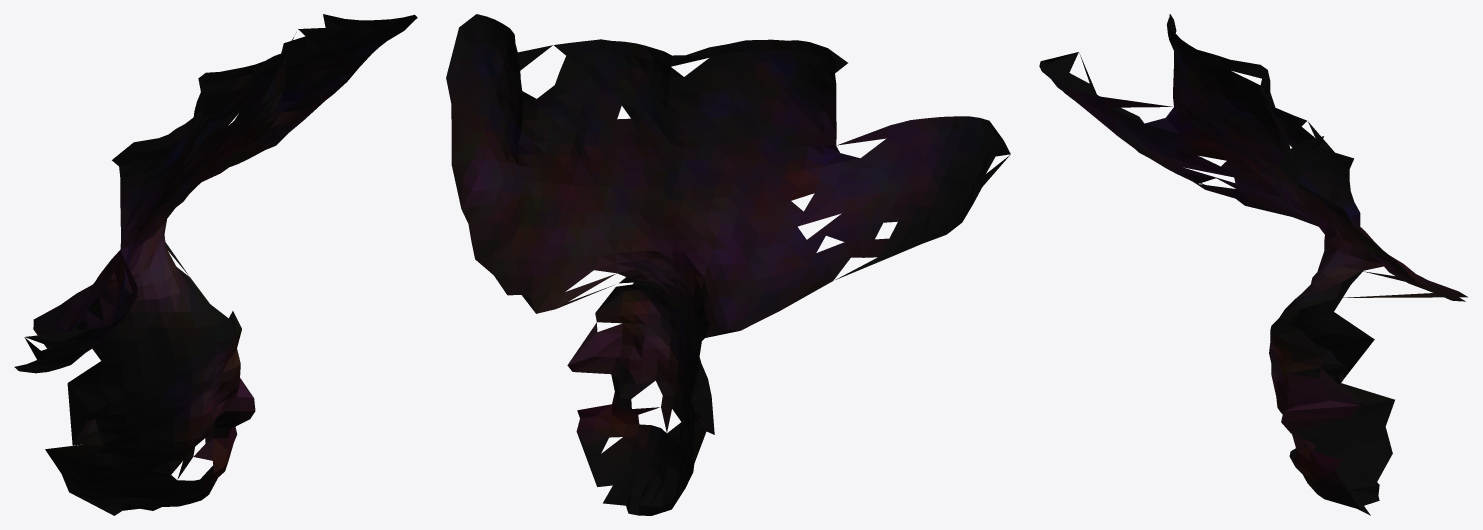
3 renders of one model, left to right at view 1: azimuth 30°, elevation 25°; view 2: azimuth 150°, elevation 25°; view 3: azimuth 270°, elevation 25°, orthographic. The views are drawn at different scales.
Parts seen in each view (by area): view 1: ofMesh; view 2: ofMesh; view 3: ofMesh.
Boxes of the visible parts, x1=… form: ofMesh: x1=14, y1=14, x2=417, y2=515; ofMesh: x1=446, y1=14, x2=1010, y2=515; ofMesh: x1=1039, y1=14, x2=1467, y2=515.
Size of the model in its own units: 450 by 400 by 357.
1 material, 1 textured.
